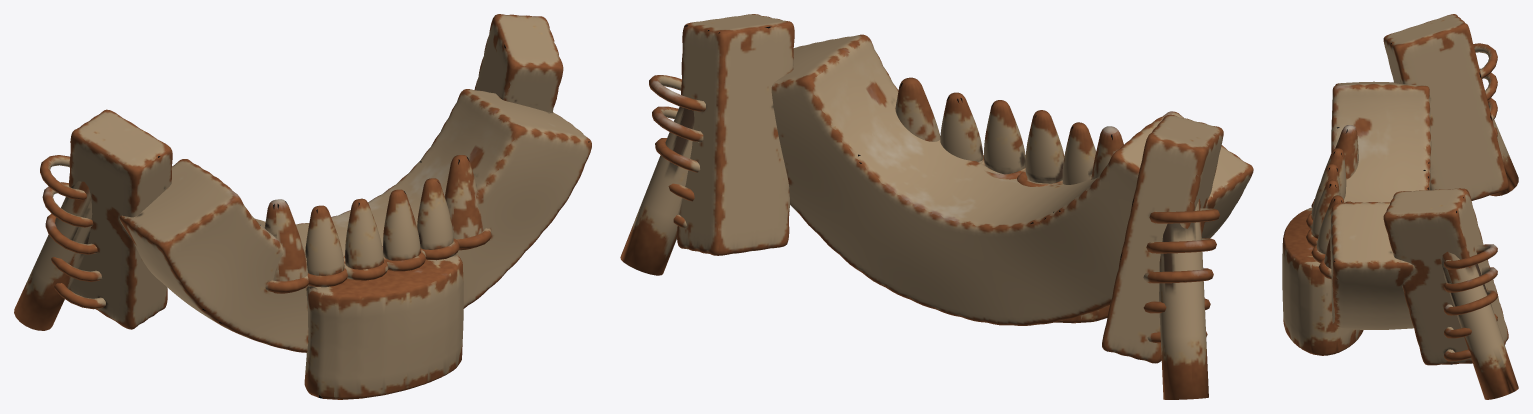
The model's file is collector-animatronic-jaw.glb.
The picture shows the model from 3 angles, left to right: view 1: azimuth 30°, elevation 25°; view 2: azimuth 150°, elevation 25°; view 3: azimuth 270°, elevation 25°; orthographic projection. The views are drawn at different scales.
Parts seen in each view (by area): view 1: SM_CollectorMandible; view 2: SM_CollectorMandible; view 3: SM_CollectorMandible.
Part boxes in pixels (left/top/right/bottom): SM_CollectorMandible: left=14, top=14, right=591, bottom=399; SM_CollectorMandible: left=620, top=14, right=1253, bottom=399; SM_CollectorMandible: left=1282, top=14, right=1518, bottom=399.
Size of the model in its own units: 2.79 by 1.28 by 1.24.
1 material, 1 textured.
